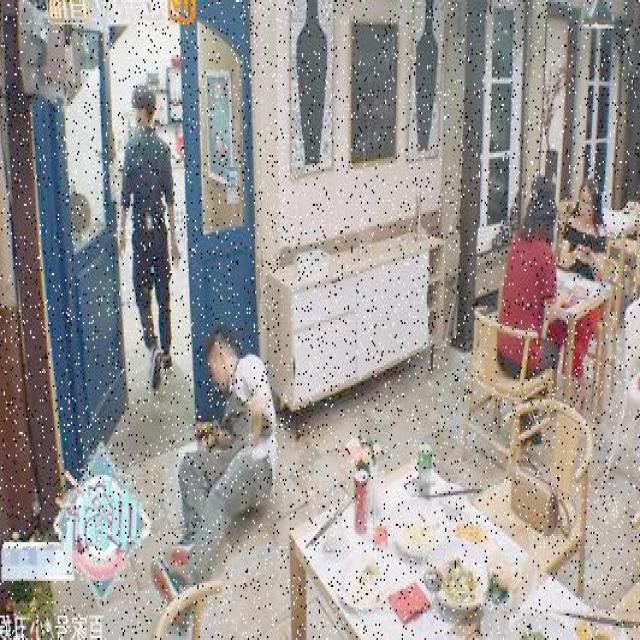fall: (148, 337, 284, 606)
